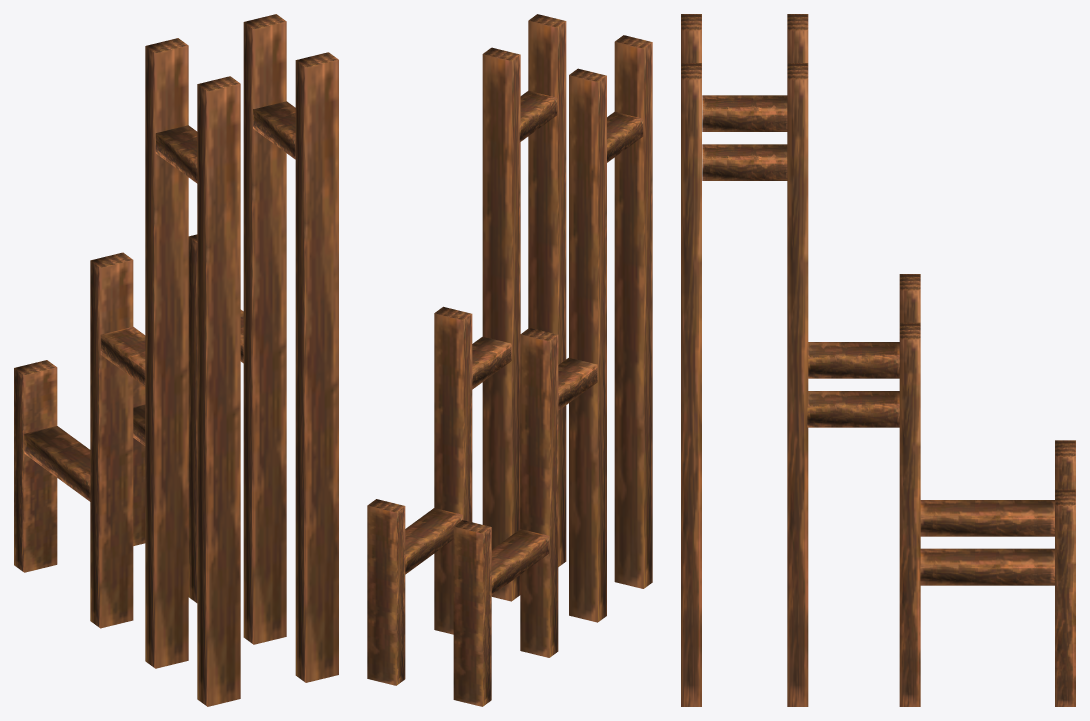
The model's file is INST_SWORDLIGHT_PLATC.fbx.
The picture shows the model from 3 angles, left to right: view 1: azimuth 30°, elevation 25°; view 2: azimuth 150°, elevation 25°; view 3: azimuth 270°, elevation 25°; orthographic projection. The views are drawn at different scales.
Parts seen in each view (by area): view 1: INST_SWORDLIGHT_PLATC; view 2: INST_SWORDLIGHT_PLATC; view 3: INST_SWORDLIGHT_PLATC.
Part boxes in pixels (x1,y1,x2,y2): INST_SWORDLIGHT_PLATC: (14,14,338,706); INST_SWORDLIGHT_PLATC: (367,14,652,706); INST_SWORDLIGHT_PLATC: (681,14,1075,706).
Size of the model in its own units: 8569 by 38404 by 21903.
1 material, 1 textured.
